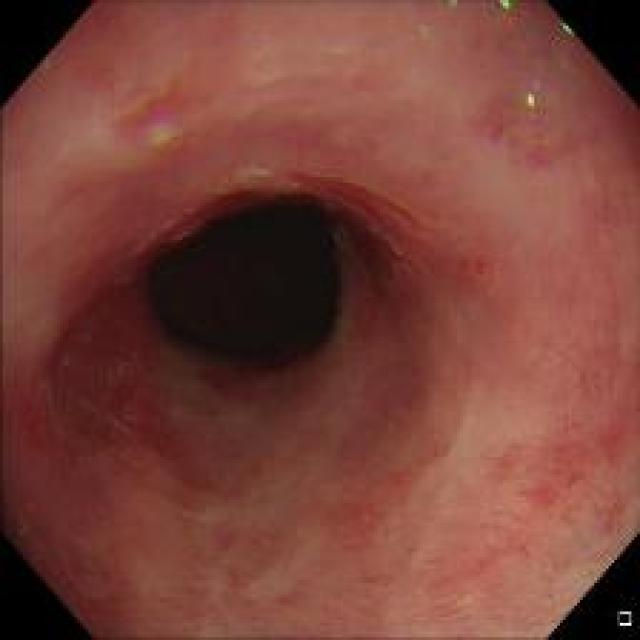color misalignment: (132, 111, 178, 148), (515, 74, 544, 125), (231, 155, 274, 185), (492, 0, 524, 26), (556, 18, 578, 44)
contrast: (148, 191, 370, 371)
